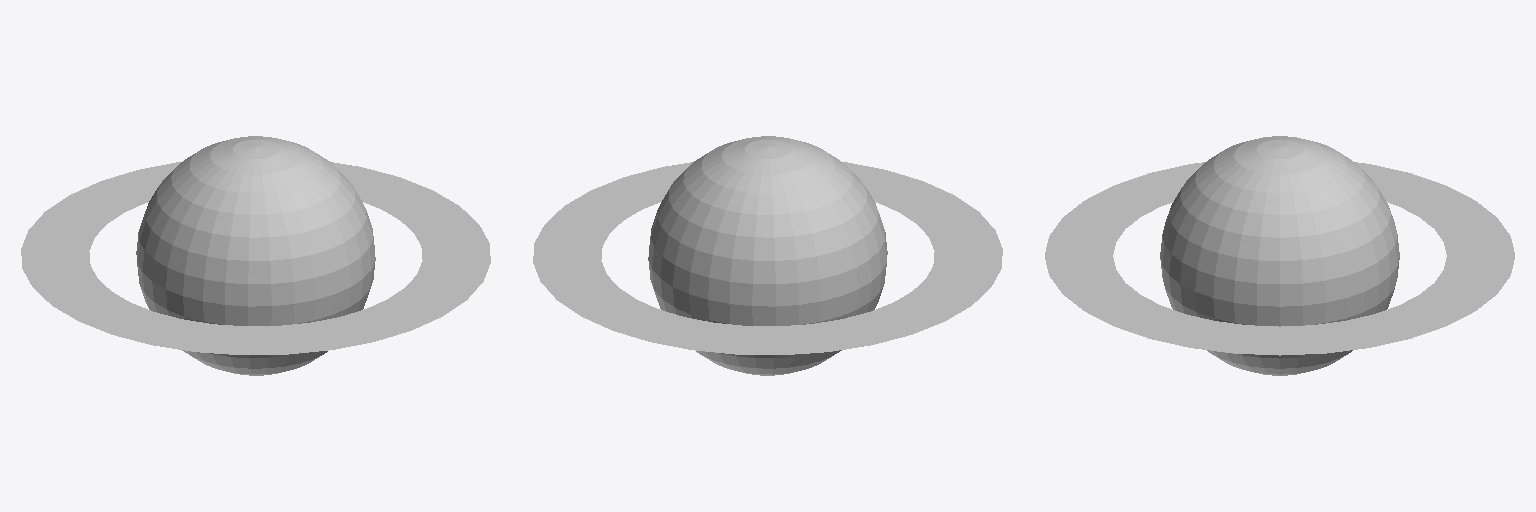
File: saturn.obj
3 views of the same model, side by side, from view 1: azimuth 30°, elevation 25°; view 2: azimuth 150°, elevation 25°; view 3: azimuth 270°, elevation 25° (orthographic).
Parts seen in each view (by area): view 1: Окружность; view 2: Окружность; view 3: Окружность.
Boxes of the visible parts, x1,y1,x2,y2 form: Окружность: [21, 136, 490, 375]; Окружность: [533, 136, 1002, 375]; Окружность: [1045, 136, 1514, 375].
Size of the model in its own units: 3.93 by 2 by 3.93.